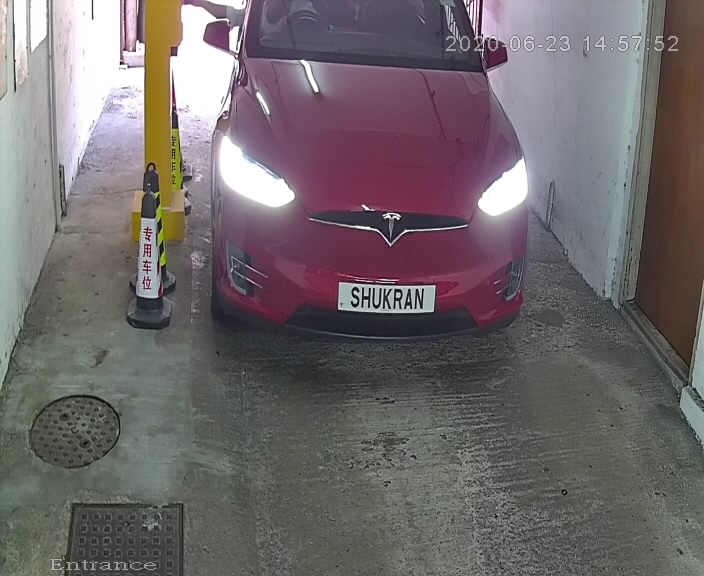privatecar: (179, 2, 539, 371)
